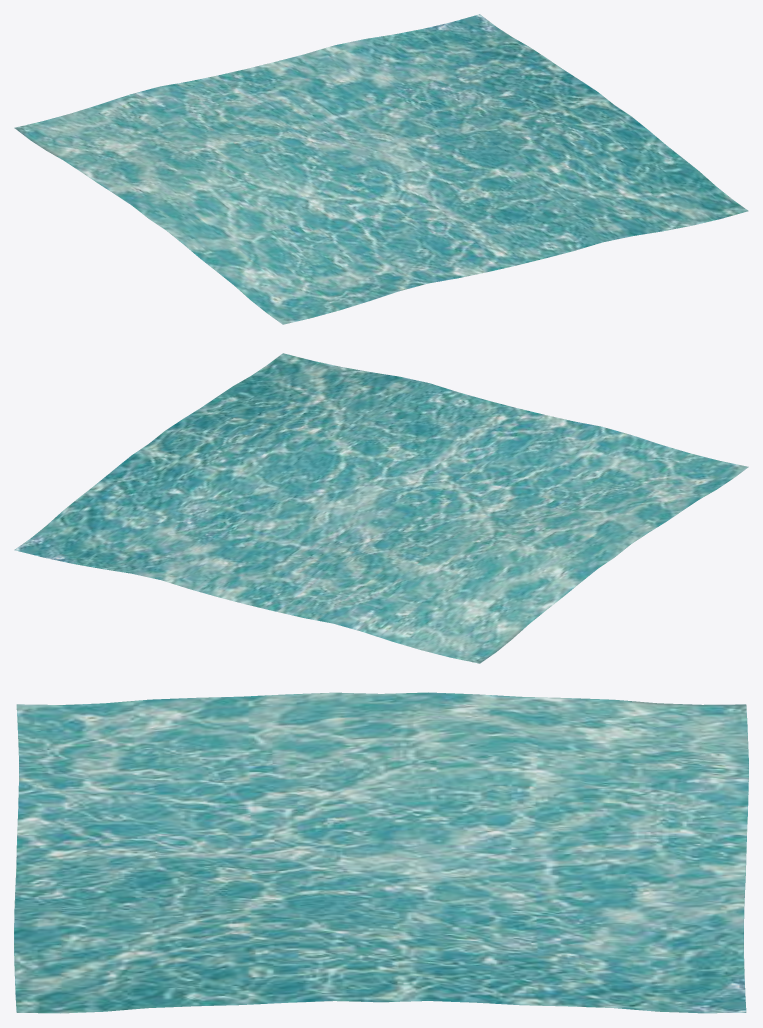
File: water_000204.obj
3 views of the same model, one above another, from view 1: azimuth 30°, elevation 25°; view 2: azimuth 150°, elevation 25°; view 3: azimuth 270°, elevation 25° (orthographic). The views are drawn at different scales.
Visible parts, largest first — view 1: Plan.003_Plan.001; view 2: Plan.003_Plan.001; view 3: Plan.003_Plan.001.
Part boxes in pixels (x1,y1,x2,y2): Plan.003_Plan.001: (14,14,748,324); Plan.003_Plan.001: (14,353,748,663); Plan.003_Plan.001: (14,692,748,1013).
Size of the model in its own units: 60373 by 1573 by 60757.
